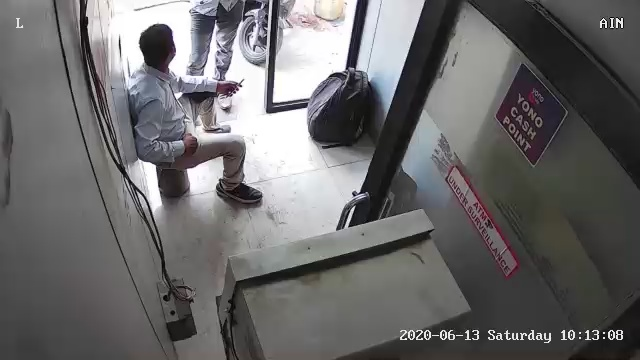open: (206, 3, 371, 137)
